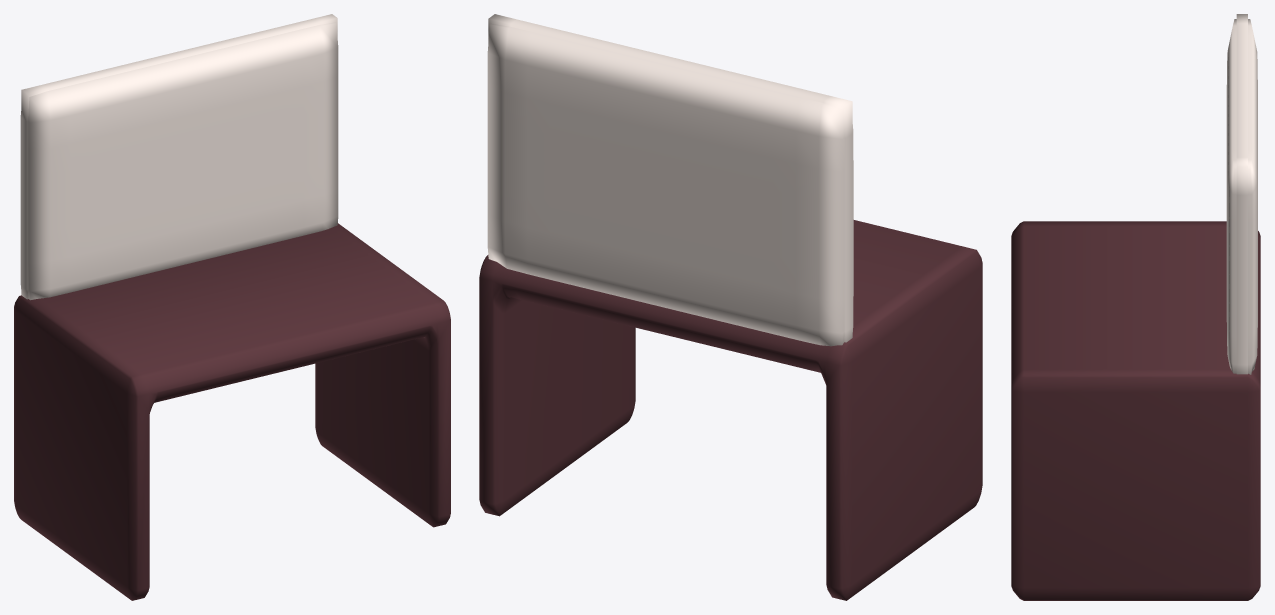
The picture shows the model from 3 angles, left to right: view 1: azimuth 30°, elevation 25°; view 2: azimuth 150°, elevation 25°; view 3: azimuth 270°, elevation 25°; orthographic projection. The views are drawn at different scales.
Parts seen in each view (by area): view 1: Cube, Cube.001; view 2: Cube.001, Cube; view 3: Cube, Cube.001.
Boxes of the visible parts, <box> form: Cube: <box>14,223,450,600</box>; Cube.001: <box>20,14,338,300</box>; Cube.001: <box>487,14,853,346</box>; Cube: <box>479,220,982,600</box>; Cube: <box>1011,221,1260,600</box>; Cube.001: <box>1226,14,1257,374</box>.
Bounding box in the file's own units: 0.6 × 0.7668 × 0.4.
